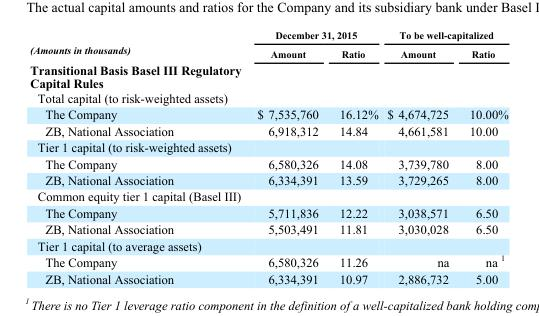table: (29, 28, 507, 285)
table column: (29, 28, 214, 285), (214, 28, 328, 285), (382, 28, 458, 285), (328, 28, 382, 285), (458, 28, 507, 285)
table column header: (29, 28, 507, 60)
table projected row header: (29, 60, 507, 90), (29, 138, 507, 155), (29, 187, 507, 204), (29, 90, 507, 105), (29, 237, 507, 252)
table row: (29, 60, 507, 90), (29, 252, 507, 270), (29, 105, 507, 122), (29, 138, 507, 155), (29, 187, 507, 204), (29, 220, 507, 237), (29, 28, 507, 44), (29, 44, 507, 60), (29, 122, 507, 138), (29, 155, 507, 171), (29, 171, 507, 187), (29, 204, 507, 220), (29, 90, 507, 105), (29, 237, 507, 252), (29, 270, 507, 285)
table spanning cell: (29, 28, 214, 60), (214, 28, 382, 44), (382, 28, 507, 44)
